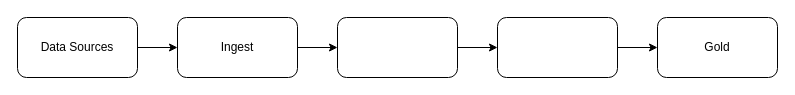
This 795x95 diagram has some shape labels left out. Here are the shapes that lost their labels. From the top down, the box of each, then its label:
(336, 16, 458, 78): Bronze
(496, 16, 618, 78): Silver
